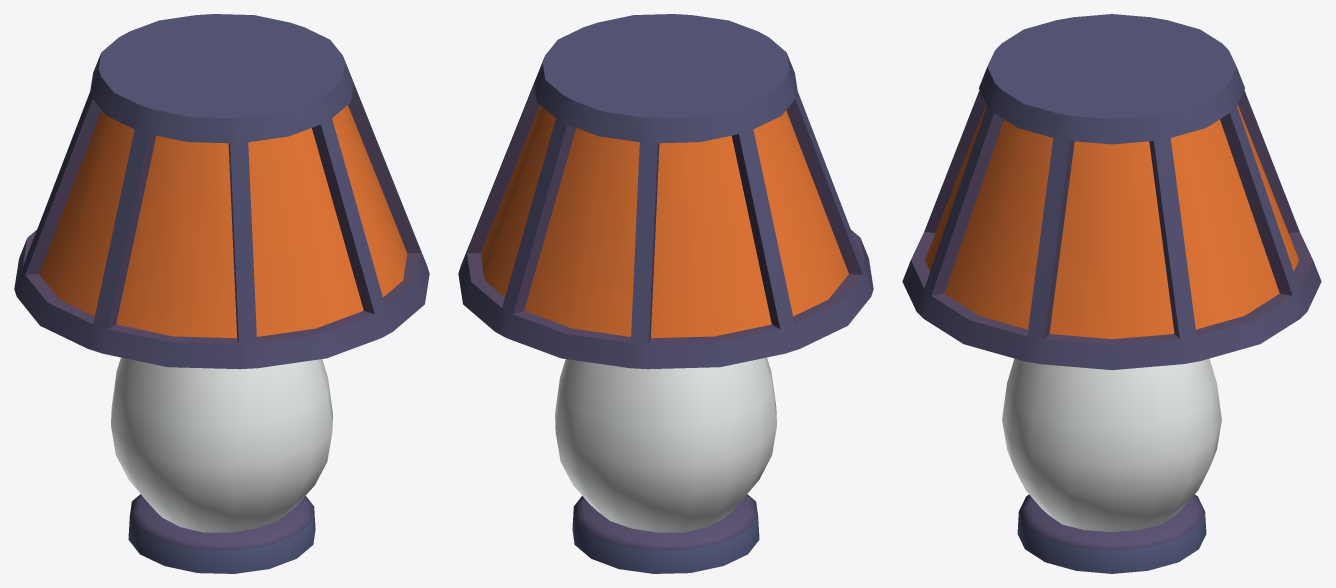
The model's file is lamp1.fbx.
3 renders of one model, left to right at view 1: azimuth 30°, elevation 25°; view 2: azimuth 150°, elevation 25°; view 3: azimuth 270°, elevation 25°, orthographic.
Visible parts, largest first — view 1: lamp1; view 2: lamp1; view 3: lamp1.
Boxes of the visible parts, bbox=[...] form: lamp1: bbox=[14, 14, 429, 573]; lamp1: bbox=[458, 14, 873, 573]; lamp1: bbox=[902, 14, 1321, 573].
Bounding box in the file's own units: 79.39 × 97.64 × 79.39.
